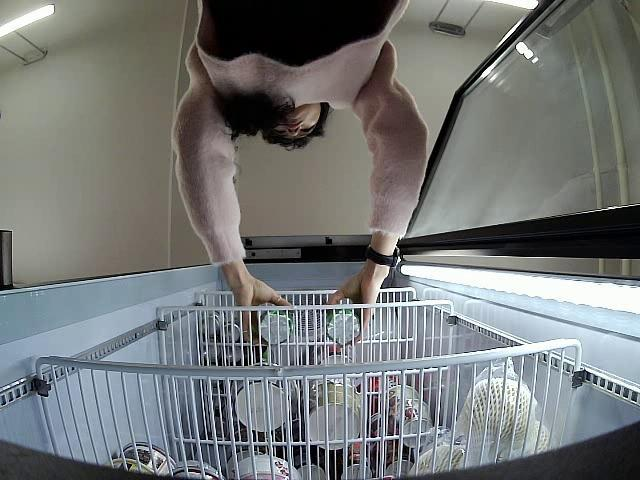18_trevi: (258, 310, 296, 348), (325, 309, 362, 348)
